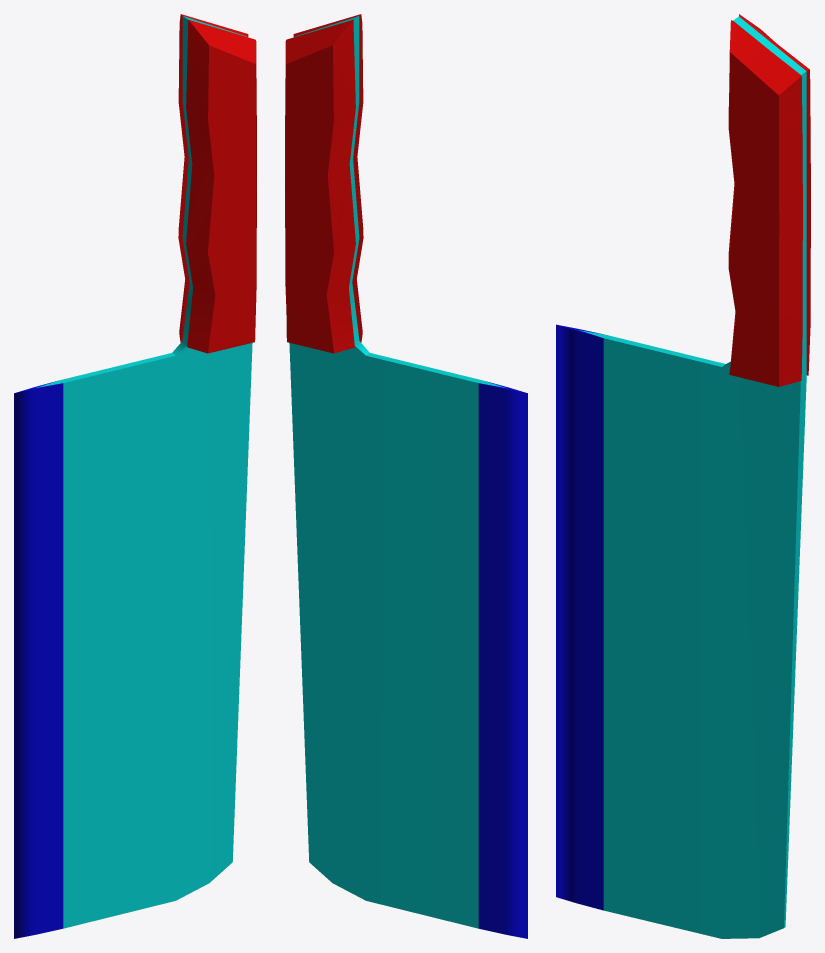
The model's file is meat_knife.fbx.
3 views of the same model, side by side, from view 1: azimuth 30°, elevation 25°; view 2: azimuth 150°, elevation 25°; view 3: azimuth 330°, elevation 25° (orthographic). The views are drawn at different scales.
Parts seen in each view (by area): view 1: Meat_Knife; view 2: Meat_Knife; view 3: Meat_Knife.
Part boxes in pixels (x1=…): Meat_Knife: x1=14, y1=14, x2=256, y2=938; Meat_Knife: x1=285, y1=14, x2=527, y2=938; Meat_Knife: x1=556, y1=14, x2=810, y2=938.
Bounding box in the file's own units: 0.6088 × 2.14 × 0.1301.
